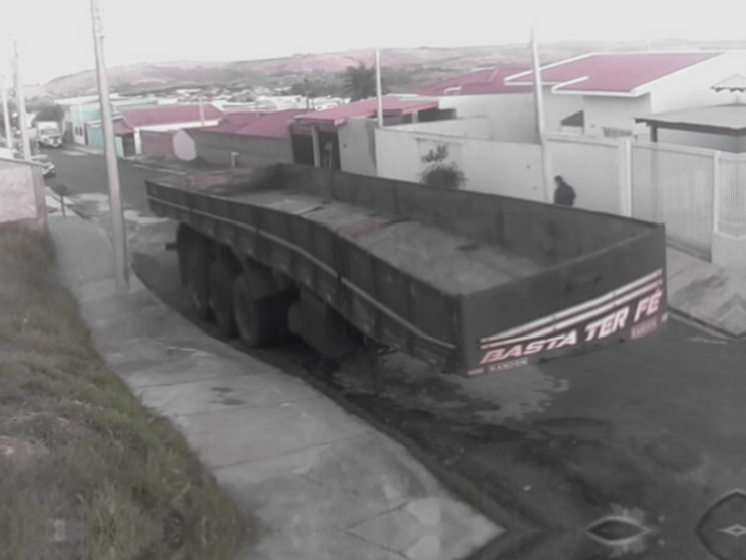person: (549, 173, 578, 207)
